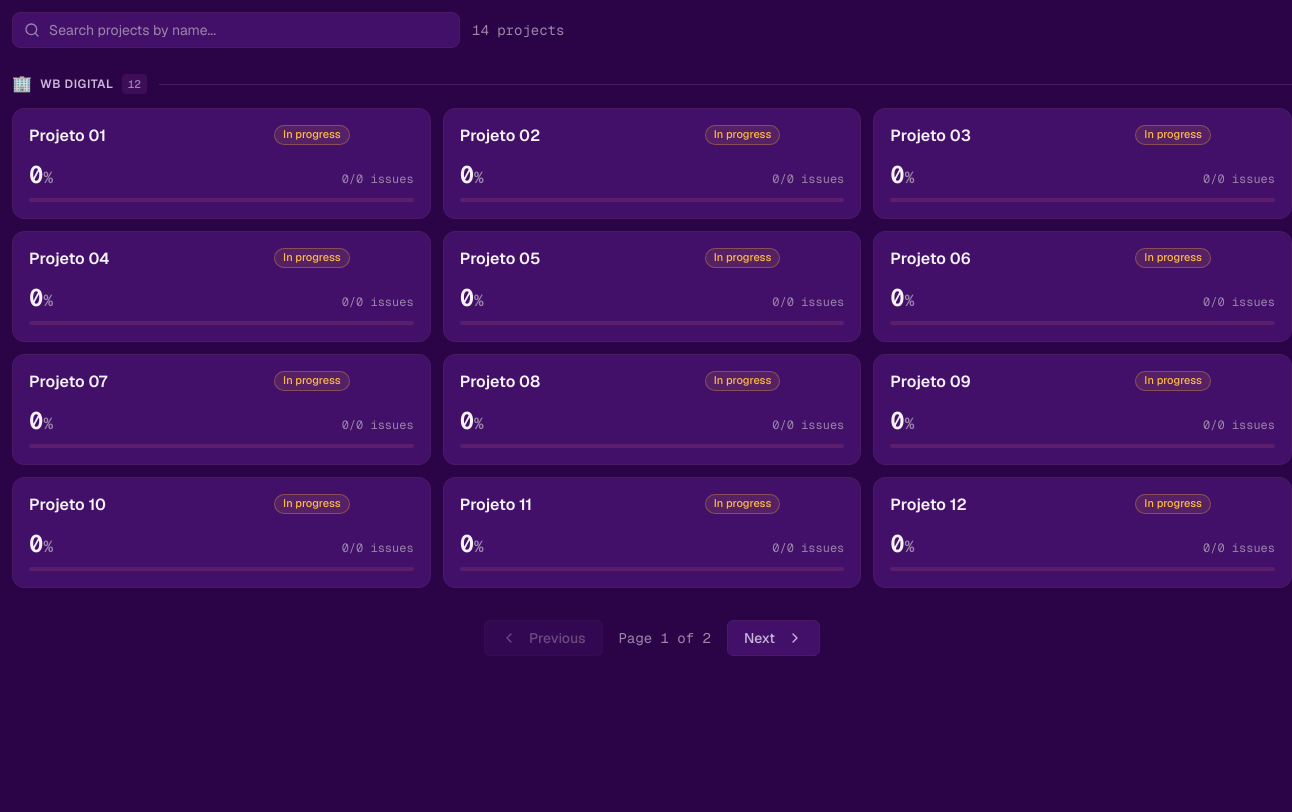
Test: ProjectsListClient — paginação › mostra só a primeira página e navega para a próxima
This screenshot has width=1292, height=812.
expect the heading "Projeto 01" is shown: met, box [29,125,106,146]
expect the heading "Projeto 12" is shown: met, box [890,494,967,515]
Click the button "Next" at x=773, y=638, box [727,620,820,656]
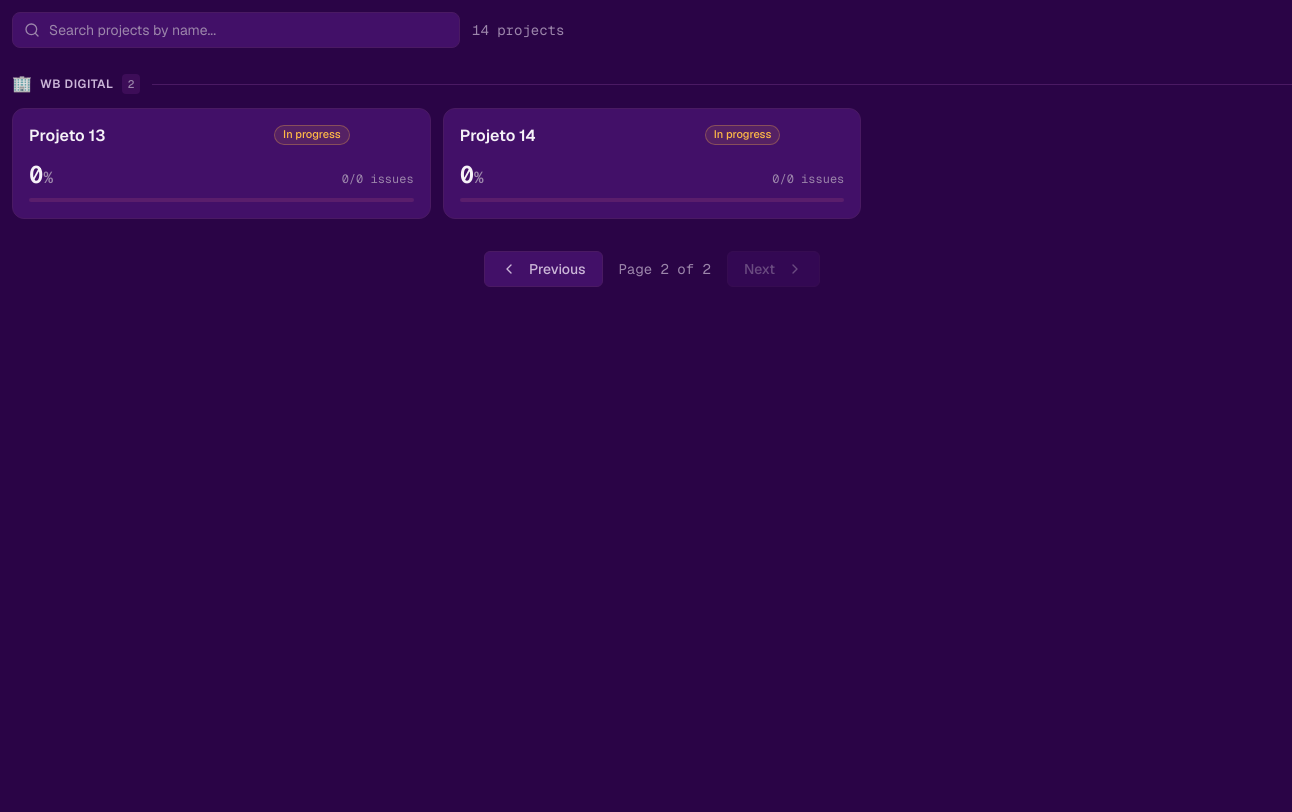
expect the heading "Projeto 13" is shown: met, box [29,125,106,146]
expect the heading "Projeto 14" is shown: met, box [460,125,536,146]
expect the link "Projeto 01" is gone: met
